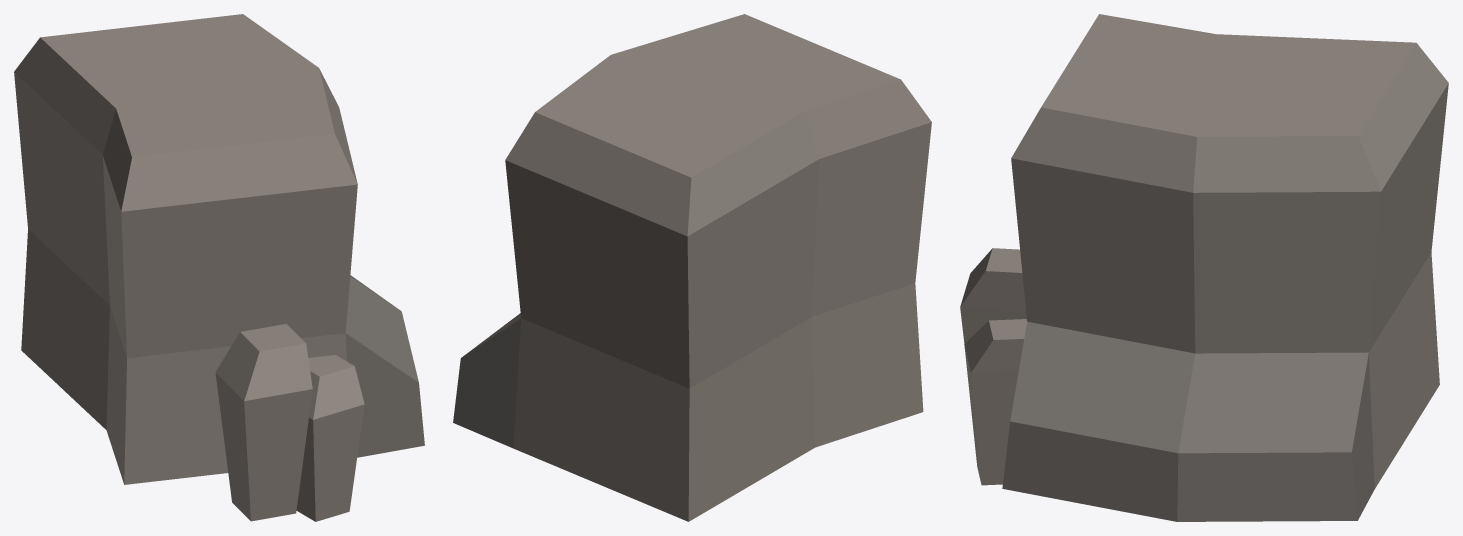
The model's file is squarerock3.fbx.
3 renders of one model, left to right at view 1: azimuth 30°, elevation 25°; view 2: azimuth 150°, elevation 25°; view 3: azimuth 270°, elevation 25°, orthographic. The views are drawn at different scales.
Parts seen in each view (by area): view 1: SquareRock3; view 2: SquareRock3; view 3: SquareRock3.
Part boxes in pixels (<box>): SquareRock3: <box>14,14,424,521</box>; SquareRock3: <box>453,14,931,521</box>; SquareRock3: <box>960,14,1448,521</box>.
Bounding box in the file's own units: 1.11 × 1.14 × 1.31.
